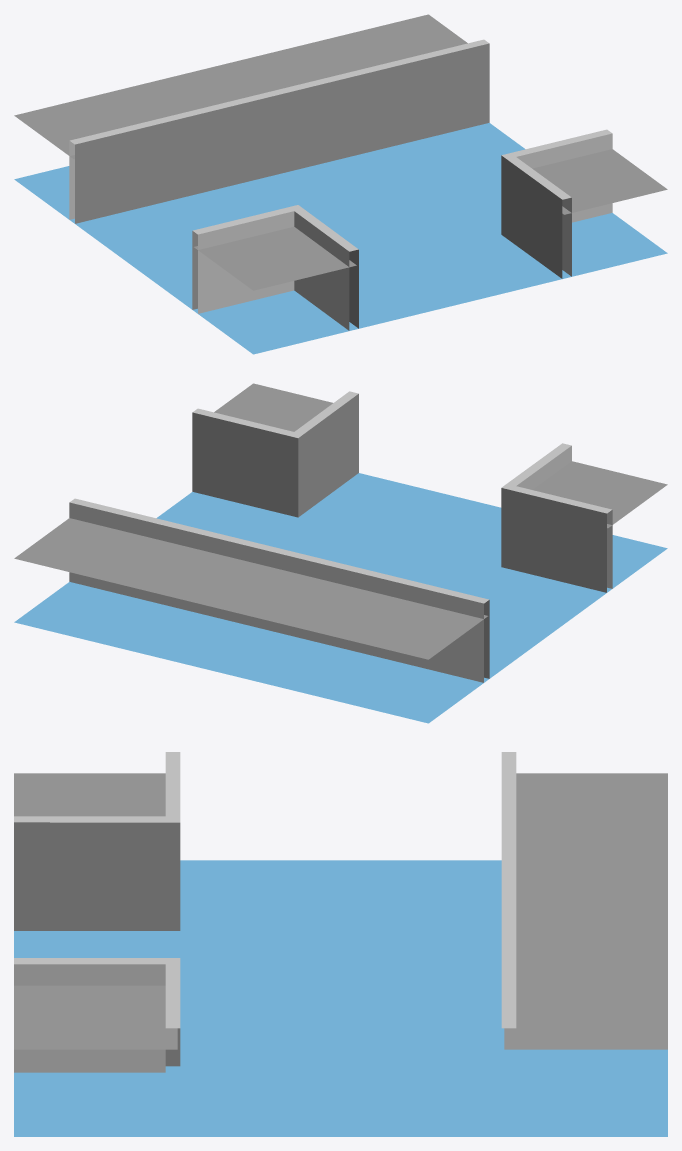
Rendered from River_Tile_4.fbx.
The picture shows the model from 3 angles, top to bottom: view 1: azimuth 30°, elevation 25°; view 2: azimuth 150°, elevation 25°; view 3: azimuth 270°, elevation 25°; orthographic projection. The views are drawn at different scales.
Parts seen in each view (by area): view 1: River_Tile_4; view 2: River_Tile_4; view 3: River_Tile_4.
Part boxes in pixels (x1,y1,x2,y2): River_Tile_4: (14, 14, 667, 354); River_Tile_4: (14, 383, 667, 723); River_Tile_4: (14, 752, 667, 1136).
Size of the model in its own units: 4 by 0.7315 by 4.
